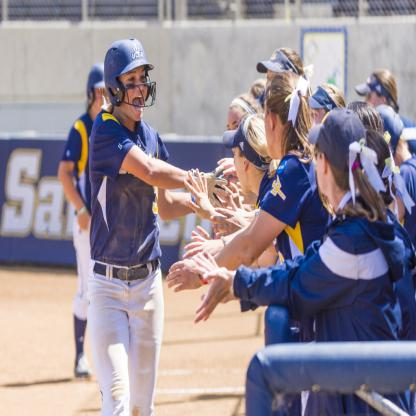Helmet: (97, 36, 153, 118), (376, 104, 404, 159), (87, 62, 109, 112)
